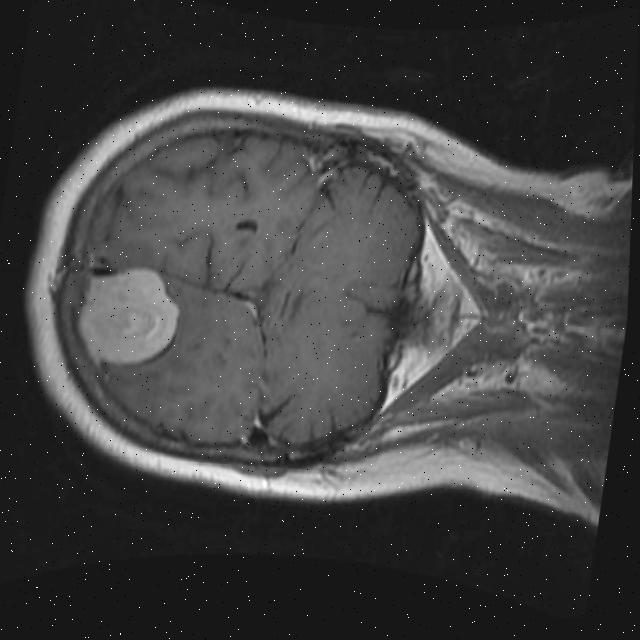Meningioma: (71, 258, 187, 376)
